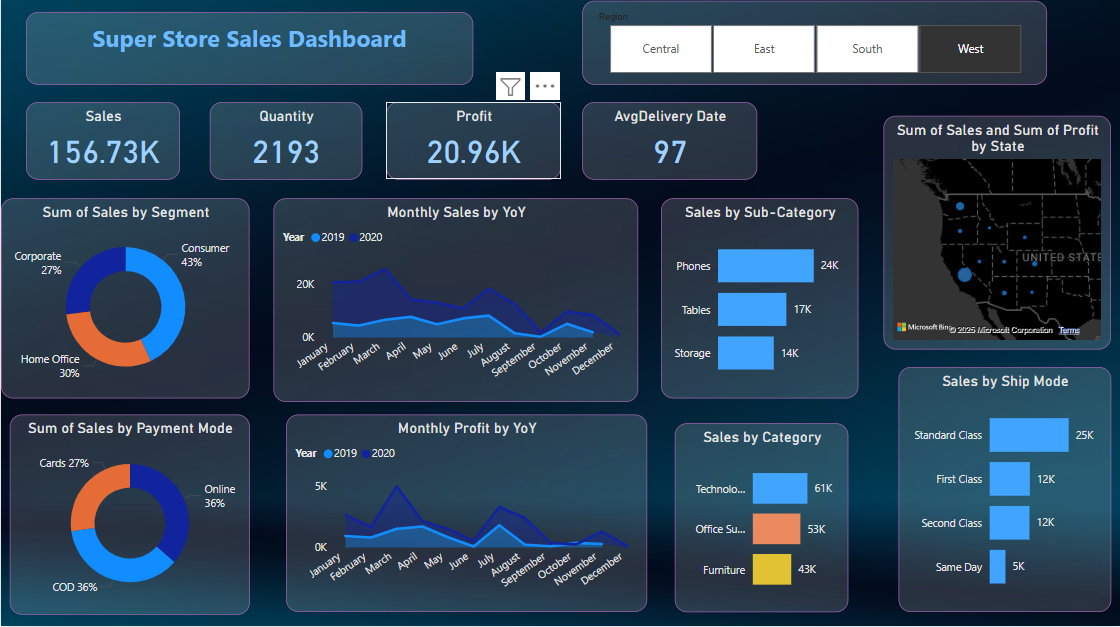

This screenshot's page, from the dashboard's own definition file:
{"tool":"powerbi","page":{"name":"Page 1","canvas":[1280,720],"ordinal":0},"visuals":[{"type":"clusteredBarChart","title":"Sales by Category","fields":{"Category":["SuperStore_Sales_Dataset.Category"],"Y":["Sum(SuperStore_Sales_Dataset.Sales)"]},"box":[770,487.1,198.6,215.7],"z":0},{"type":"clusteredBarChart","title":"Sales by Sub-Category","fields":{"Category":["SuperStore_Sales_Dataset.Sub-Category"],"Y":["Sum(SuperStore_Sales_Dataset.Sales)"]},"box":[754.3,230,225.7,228.6],"z":1000},{"type":"clusteredBarChart","title":"Sales by Ship Mode","fields":{"Category":["SuperStore_Sales_Dataset.Ship Mode"],"Y":["Sum(SuperStore_Sales_Dataset.Sales)"]},"box":[1025.7,422.9,242.9,280],"z":2000},{"type":"stackedAreaChart","title":"Monthly Sales by YoY","fields":{"Y":["Sum(SuperStore_Sales_Dataset.Sales)"],"Category":["SuperStore_Sales_Dataset.Order Date.Variation.Date Hierarchy.Month","SuperStore_Sales_Dataset.Order Date.Variation.Date Hierarchy.Day"],"Series":["SuperStore_Sales_Dataset.Order Date.Variation.Date Hierarchy.Year"]},"box":[311.4,230,417.1,232.9],"z":3000},{"type":"stackedAreaChart","title":"Monthly Profit by YoY","fields":{"Category":["SuperStore_Sales_Dataset.Order Date.Variation.Date Hierarchy.Month","SuperStore_Sales_Dataset.Order Date.Variation.Date Hierarchy.Day"],"Series":["SuperStore_Sales_Dataset.Order Date.Variation.Date Hierarchy.Year"],"Y":["Sum(SuperStore_Sales_Dataset.Profit)"]},"box":[325.7,477.1,412.9,225.7],"z":4000},{"type":"map","fields":{"Size":["Sum(SuperStore_Sales_Dataset.Sales)"],"Category":["SuperStore_Sales_Dataset.State"]},"box":[1008.6,135.7,260,267.1],"z":5000},{"type":"donutChart","fields":{"Category":["SuperStore_Sales_Dataset.Segment"],"Y":["Sum(SuperStore_Sales_Dataset.Sales)"]},"box":[0,230,284.3,228.6],"z":5001},{"type":"donutChart","fields":{"Category":["SuperStore_Sales_Dataset.Payment Mode"],"Y":["Sum(SuperStore_Sales_Dataset.Sales)"]},"box":[10,477.1,274.3,228.6],"z":5002},{"type":"slicer","fields":{"Values":["SuperStore_Sales_Dataset.Region"]},"box":[664.3,4.3,531.4,95.7],"z":5003},{"type":"textbox","box":[28.6,17.1,511.4,82.9],"z":5004},{"type":"card","title":"Sales","fields":{"Values":["Sum(SuperStore_Sales_Dataset.Sales)"]},"box":[28.6,120,175.7,88.6],"z":5005},{"type":"card","title":"Quantity","fields":{"Values":["Sum(SuperStore_Sales_Dataset.Quantity)"]},"box":[238.6,120,174.3,88.6],"z":5006},{"type":"card","title":"Profit","fields":{"Values":["Sum(SuperStore_Sales_Dataset.Profit)"]},"box":[440,120,200,88.6],"z":5007},{"type":"card","title":"AvgDelivery Date","fields":{"Values":["Avg(SuperStore_Sales_Dataset.AvgDelivery)"]},"box":[664.3,120,200,88.6],"z":5008}]}

Visuals, with their boxes in screenshot pixels (x1, y1, x2, y2), scaled from the page's 1280x720 canvas onto the 1120x627 screenshot:
"Sales by Category" clusteredBarChart: 674:424:848:612
"Sales by Sub-Category" clusteredBarChart: 660:200:858:399
"Sales by Ship Mode" clusteredBarChart: 897:368:1110:612
"Monthly Sales by YoY" stackedAreaChart: 272:200:637:403
"Monthly Profit by YoY" stackedAreaChart: 285:415:646:612
map - Sum(SuperStore_Sales_Dataset.Sales) x SuperStore_Sales_Dataset.State: 883:118:1110:351
donutChart - SuperStore_Sales_Dataset.Segment x Sum(SuperStore_Sales_Dataset.Sales): 0:200:249:399
donutChart - SuperStore_Sales_Dataset.Payment Mode x Sum(SuperStore_Sales_Dataset.Sales): 9:415:249:615
slicer - SuperStore_Sales_Dataset.Region: 581:4:1046:87
textbox: 25:15:472:87
"Sales" card: 25:104:179:182
"Quantity" card: 209:104:361:182
"Profit" card: 385:104:560:182
"AvgDelivery Date" card: 581:104:756:182
